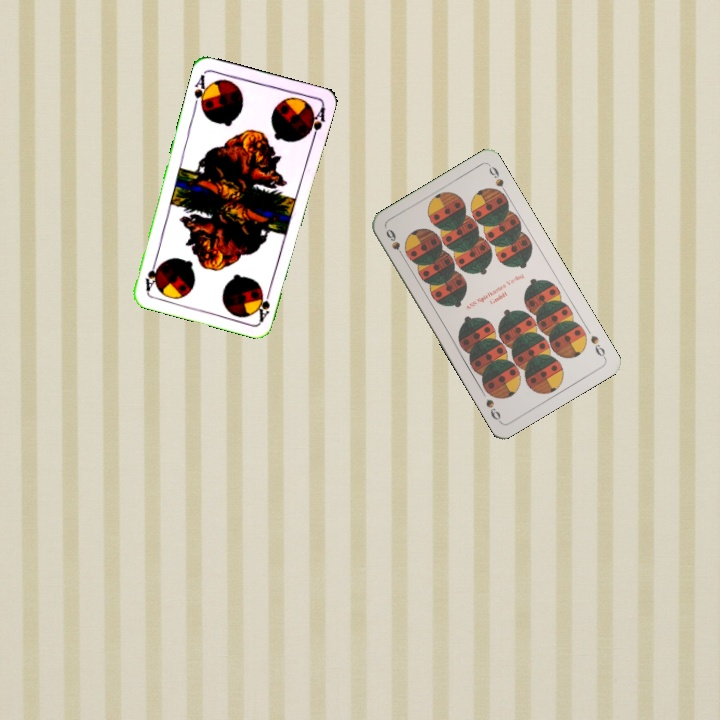S9: (382, 225, 407, 262), (586, 331, 609, 361)
SA: (190, 71, 212, 112), (255, 284, 274, 324)
